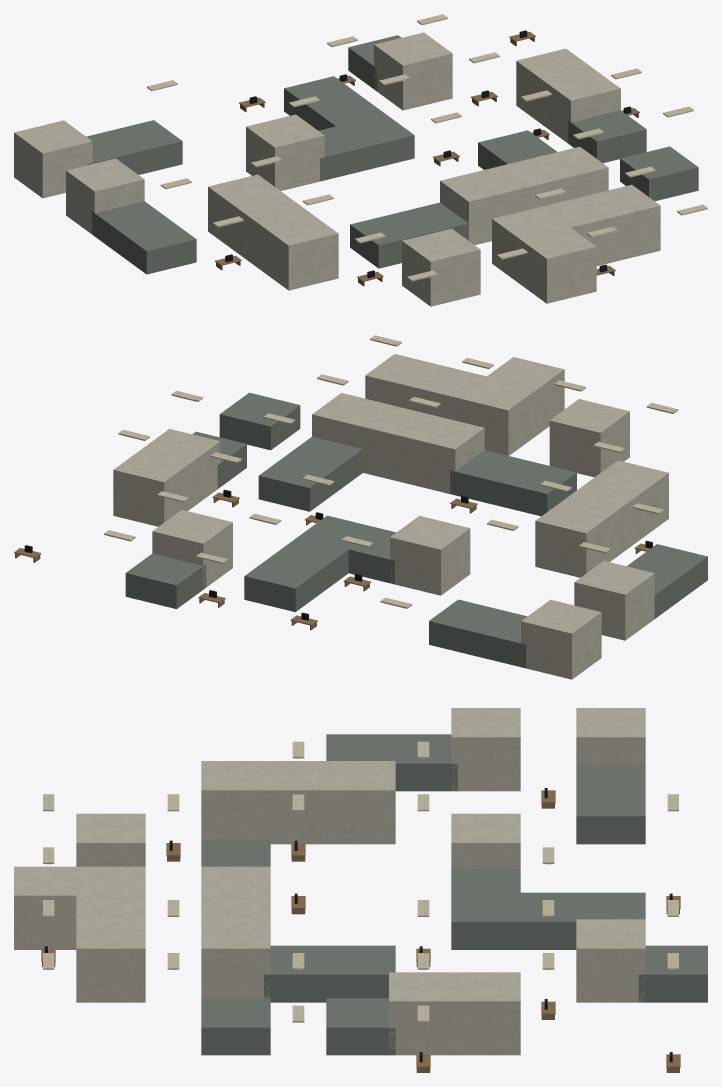
The model's file is level4_walls_1_0.obj.
The picture shows the model from 3 angles, top to bottom: view 1: azimuth 30°, elevation 25°; view 2: azimuth 150°, elevation 25°; view 3: azimuth 270°, elevation 25°; orthographic projection. The views are drawn at different scales.
Bounding box in the file's own units: 38.5 × 3.1 × 36.1.
Materials: 6 (2 with a texture image).
